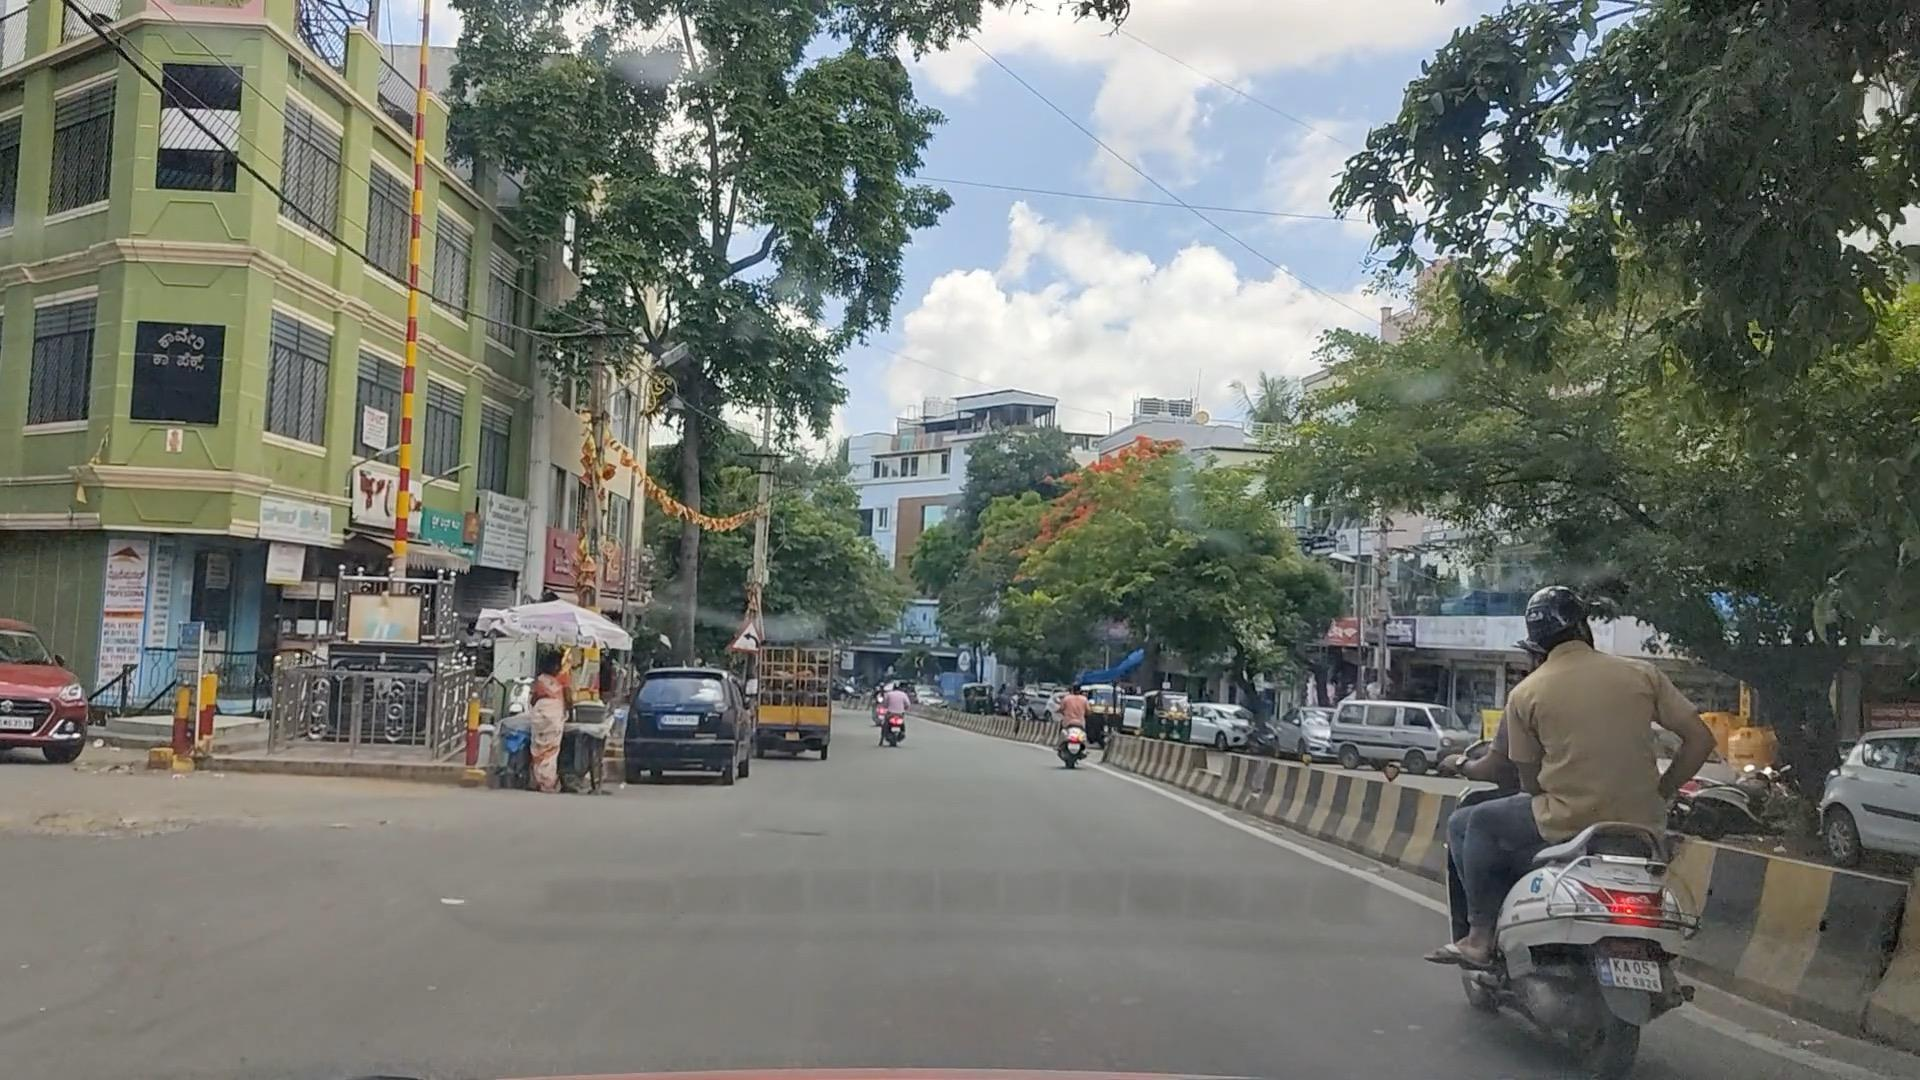LMV: (629, 674, 760, 771)
